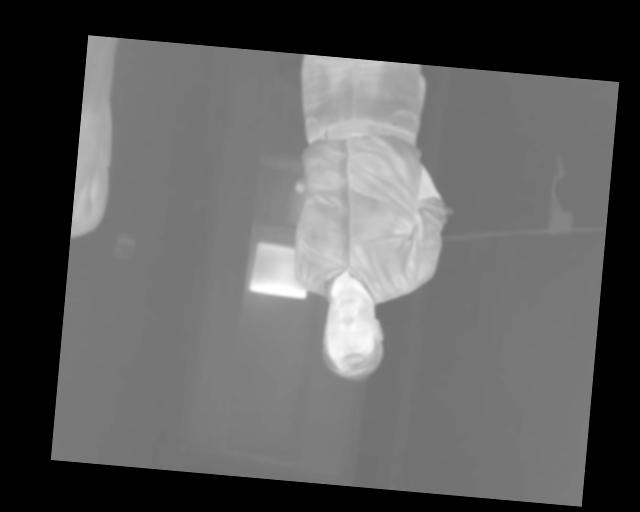face: (317, 284, 389, 382)
